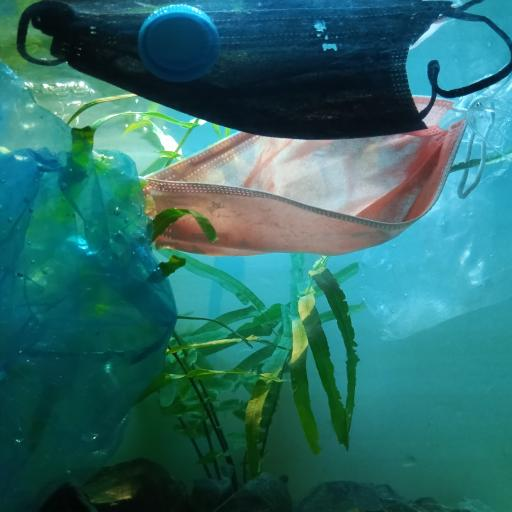bottle_cap: (137, 5, 222, 84)
mask: (16, 0, 512, 142), (143, 95, 499, 256)
plastic_bag: (0, 60, 176, 511)
